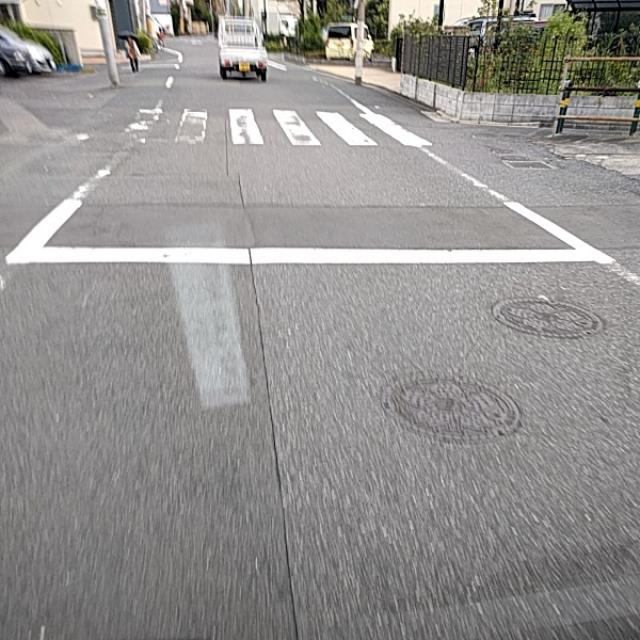pothole: (241, 238, 287, 333)
